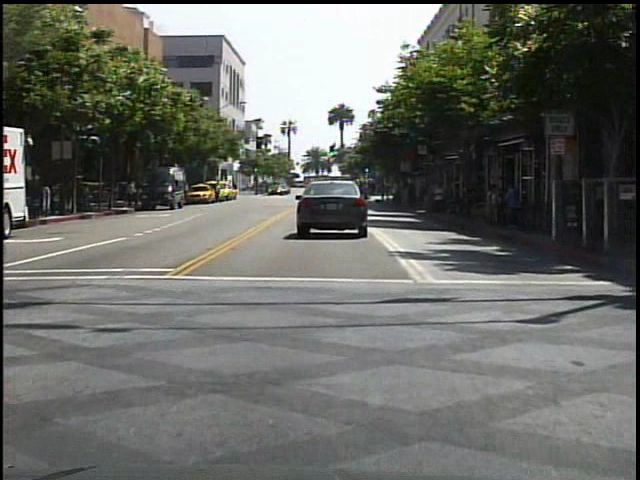person: (430, 179, 449, 219)
